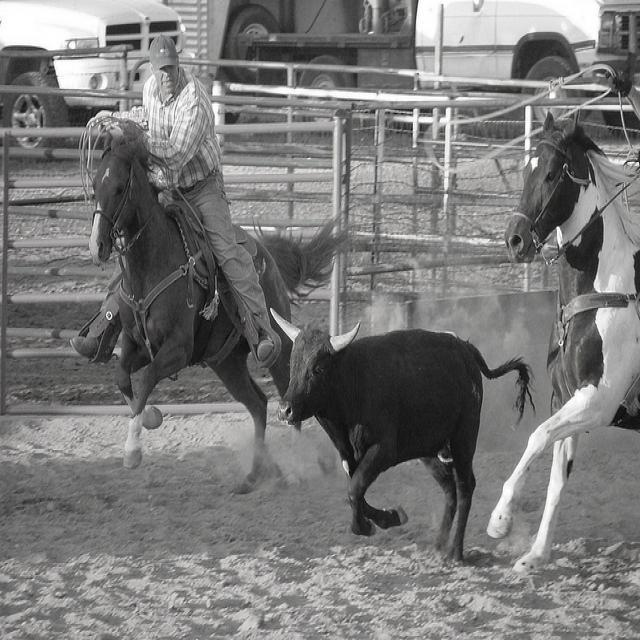cow: (268, 304, 533, 563)
